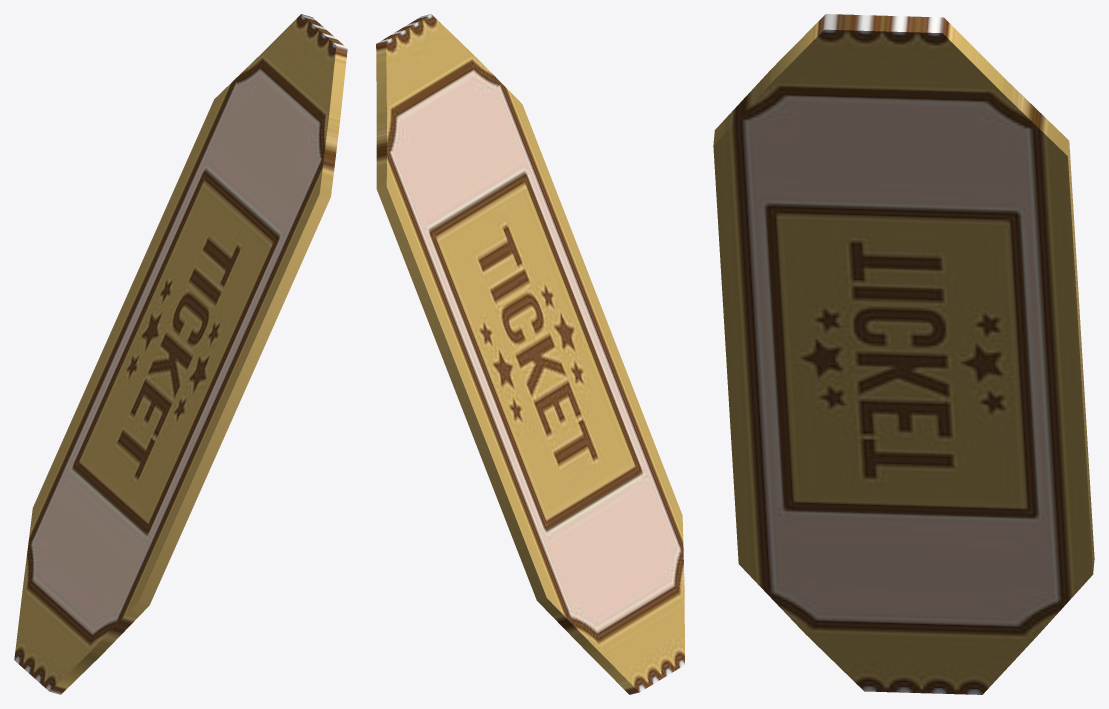
Rendered from ticket.fbx.
3 renders of one model, left to right at view 1: azimuth 30°, elevation 25°; view 2: azimuth 150°, elevation 25°; view 3: azimuth 270°, elevation 25°, orthographic. The views are drawn at different scales.
Parts seen in each view (by area): view 1: Object066; view 2: Object066; view 3: Object066.
Part boxes in pixels (box(x1,y1,x2,y2)): Object066: box(14, 14, 347, 694); Object066: box(376, 14, 684, 694); Object066: box(713, 14, 1094, 694).
Size of the model in its own units: 2.71 by 5.33 by 2.13.
1 material, 1 textured.
